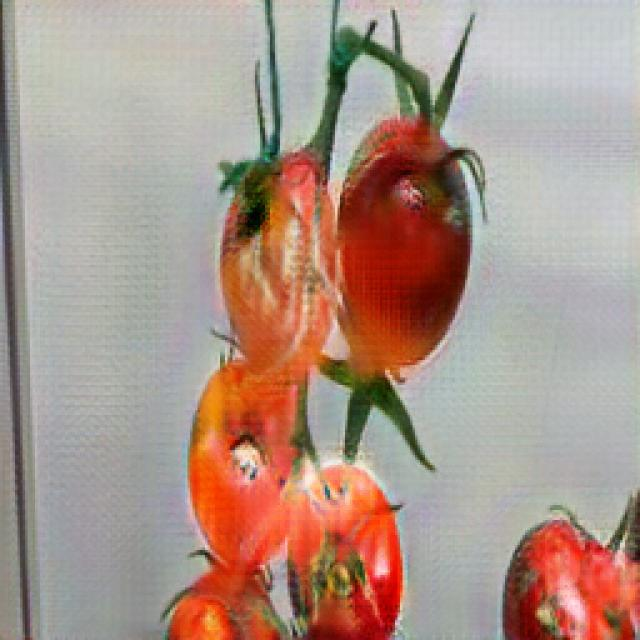overripe tomato: (331, 117, 486, 372), (213, 151, 347, 387), (190, 364, 308, 569), (495, 519, 622, 640)
